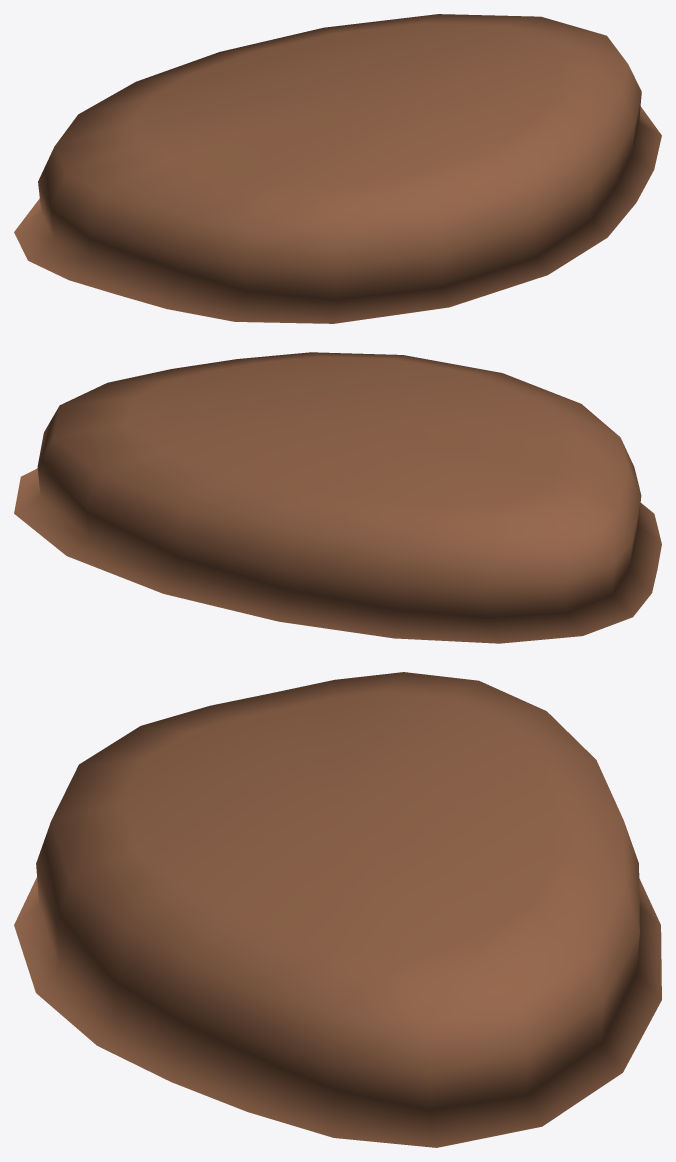
The model's file is ARCH-FOOD-STEAK-RIBEYE.glb.
3 renders of one model, top to bottom at view 1: azimuth 30°, elevation 25°; view 2: azimuth 150°, elevation 25°; view 3: azimuth 270°, elevation 25°, orthographic. The views are drawn at different scales.
Visible parts, largest first — view 1: asset_arch_food_steak_ribeye; view 2: asset_arch_food_steak_ribeye; view 3: asset_arch_food_steak_ribeye.
Part boxes in pixels (x1=…): asset_arch_food_steak_ribeye: x1=14, y1=14, x2=661, y2=323; asset_arch_food_steak_ribeye: x1=14, y1=352, x2=661, y2=643; asset_arch_food_steak_ribeye: x1=14, y1=672, x2=661, y2=1147.
Size of the model in its own units: 0.1452 by 0.0254 by 0.1012.
